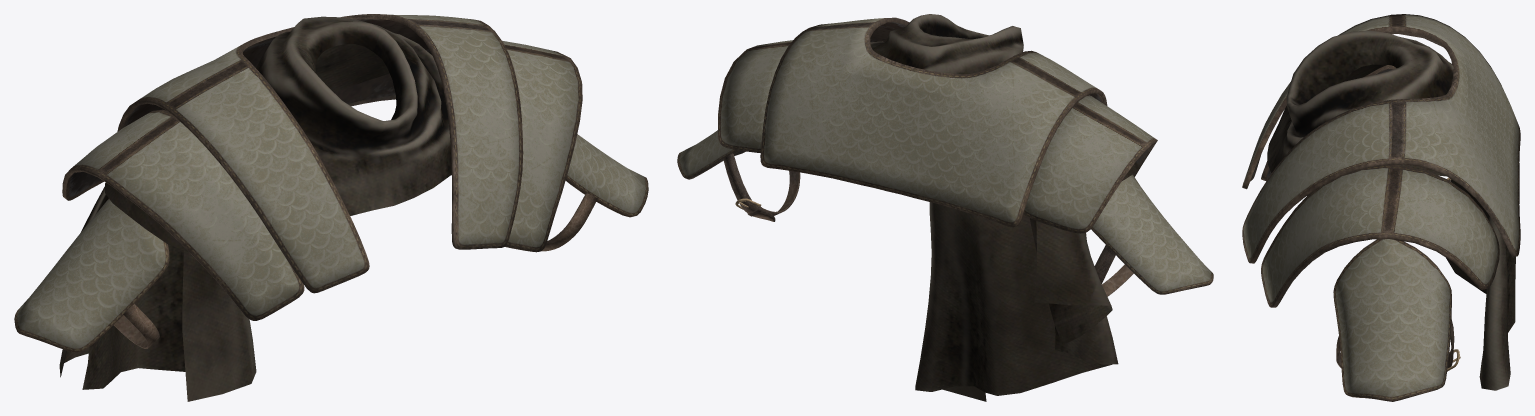
The model's file is dunland_wulf_pauldron_cape_short_d.fbx.
3 views of the same model, side by side, from view 1: azimuth 30°, elevation 25°; view 2: azimuth 150°, elevation 25°; view 3: azimuth 270°, elevation 25° (orthographic). The views are drawn at different scales.
Parts seen in each view (by area): view 1: dunland_wulf_pauldron_cape_short_d.pauldron, dunland_wulf_pauldron_cape_short_d.cloth, dunland_wulf_pauldron_cape_short_d.clothsim; view 2: dunland_wulf_pauldron_cape_short_d.pauldron, dunland_wulf_pauldron_cape_short_d.clothsim, dunland_wulf_pauldron_cape_short_d.cloth; view 3: dunland_wulf_pauldron_cape_short_d.pauldron, dunland_wulf_pauldron_cape_short_d.cloth, dunland_wulf_pauldron_cape_short_d.clothsim.
Part boxes in pixels (left/top/right/bottom): dunland_wulf_pauldron_cape_short_d.pauldron: left=14, top=14, right=648, bottom=352; dunland_wulf_pauldron_cape_short_d.cloth: left=105, top=16, right=451, bottom=252; dunland_wulf_pauldron_cape_short_d.clothsim: left=59, top=186, right=256, bottom=401; dunland_wulf_pauldron_cape_short_d.pauldron: left=677, top=17, right=1213, bottom=296; dunland_wulf_pauldron_cape_short_d.clothsim: left=915, top=202, right=1118, bottom=401; dunland_wulf_pauldron_cape_short_d.cloth: left=870, top=14, right=1139, bottom=180; dunland_wulf_pauldron_cape_short_d.pauldron: left=1242, top=14, right=1520, bottom=401; dunland_wulf_pauldron_cape_short_d.cloth: left=1267, top=30, right=1453, bottom=176; dunland_wulf_pauldron_cape_short_d.clothsim: left=1446, top=179, right=1515, bottom=390.
Bounding box in the file's own units: 0.8712 × 0.361 × 0.5041.
2 materials, 2 textured.
